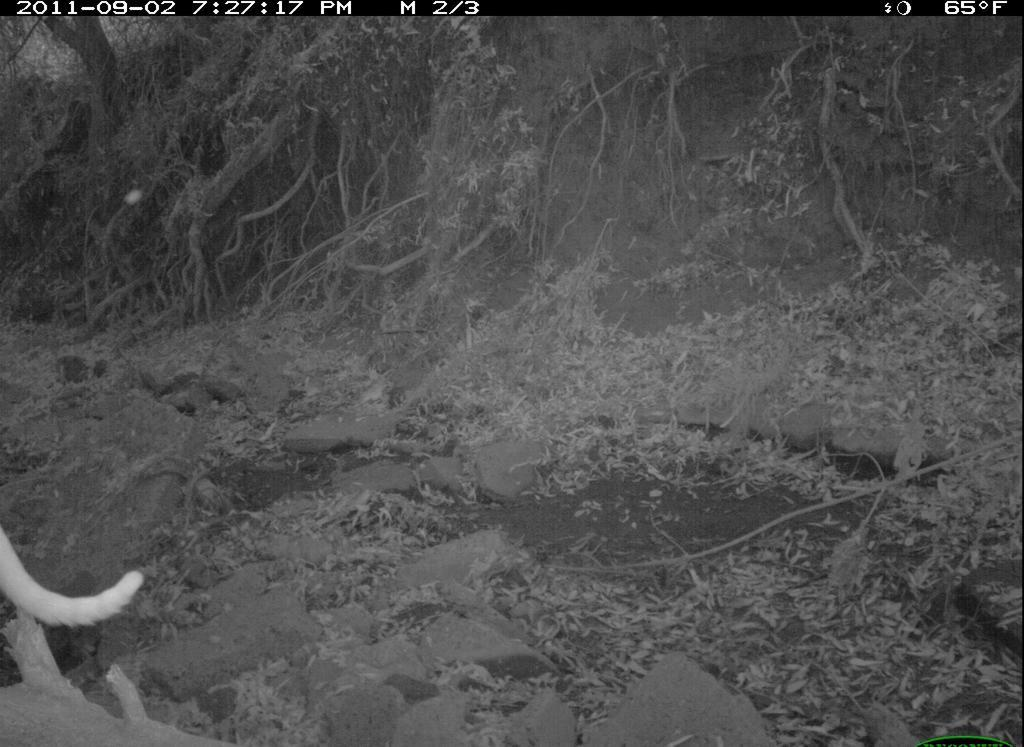cat: (1, 497, 153, 666)
